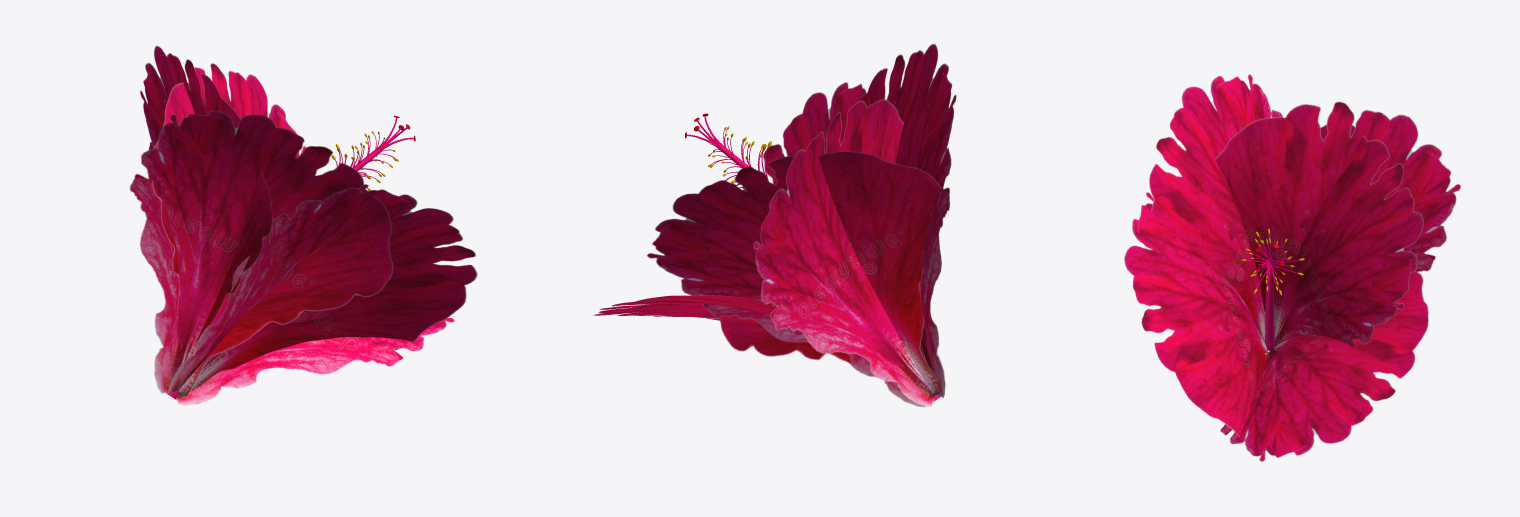
Rendered from Hibiscus_lowpoly.glb.
3 renders of one model, left to right at view 1: azimuth 30°, elevation 25°; view 2: azimuth 150°, elevation 25°; view 3: azimuth 270°, elevation 25°, orthographic. The views are drawn at different scales.
Parts seen in each view (by area): view 1: hibiscus, hibiscus.004, hibiscus.001, hibiscus.003, hibiscus.002; view 2: hibiscus.002, hibiscus.001, hibiscus, hibiscus.004, hibiscus.003; view 3: hibiscus.001, hibiscus.002, hibiscus.004, hibiscus.003, hibiscus, BezierCurve.
Boxes of the visible parts, x1,y1,x2,y2 form: hibiscus: (129, 110, 395, 397); hibiscus.004: (168, 184, 477, 398); hibiscus.001: (140, 45, 272, 393); hibiscus.003: (174, 317, 454, 405); hibiscus.002: (152, 63, 305, 387); hibiscus.002: (647, 151, 941, 407); hibiscus.001: (753, 99, 934, 406); hibiscus: (860, 43, 956, 398); hibiscus.004: (720, 82, 945, 387); hibiscus.003: (593, 295, 932, 404); hibiscus.001: (1215, 101, 1460, 334); hibiscus.002: (1274, 124, 1423, 347); hibiscus.004: (1124, 192, 1268, 436); hibiscus.003: (1220, 271, 1431, 461); hibiscus: (1149, 74, 1283, 340); BezierCurve: (1265, 258, 1274, 350).
Bounding box in the file's own units: 11.02 × 10.47 × 9.35.
Materials: 4 (1 with a texture image).
